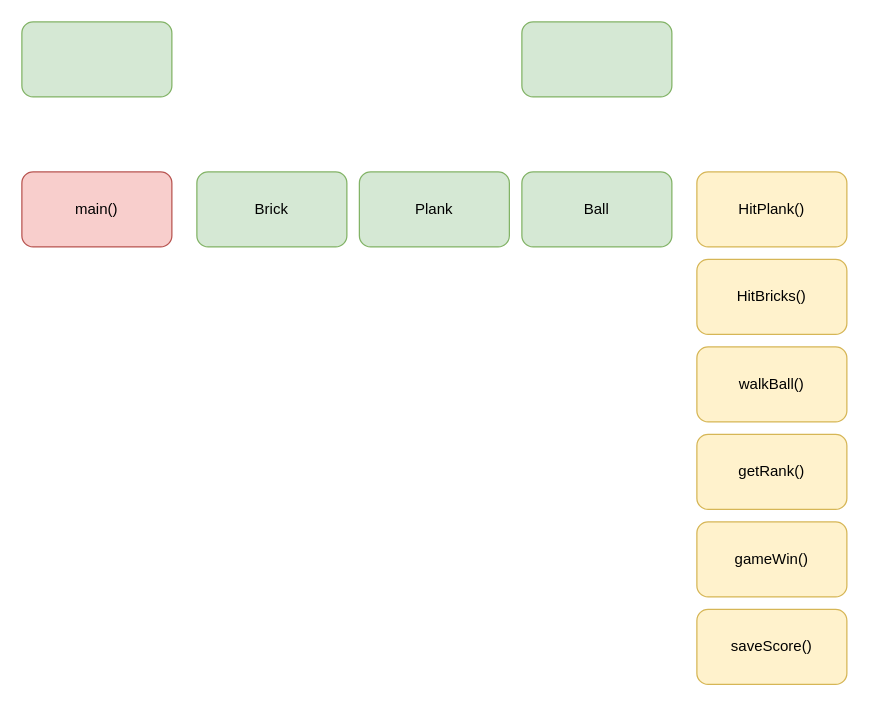
This 869x706 diagram has some shape labels left out. The shapes that lost their labels are listed below. From the top down, each one's box as (x1, y1, x2, y2) in pixels, then its label:
(21, 21, 172, 97): HitBrick
(521, 21, 672, 97): InitFrame
